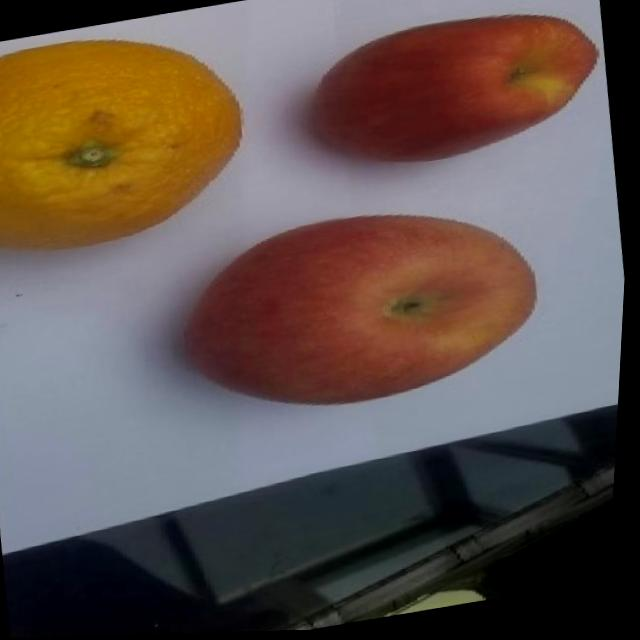Apple: (169, 188, 556, 433), (301, 0, 613, 183)
Orange: (0, 13, 261, 264)
